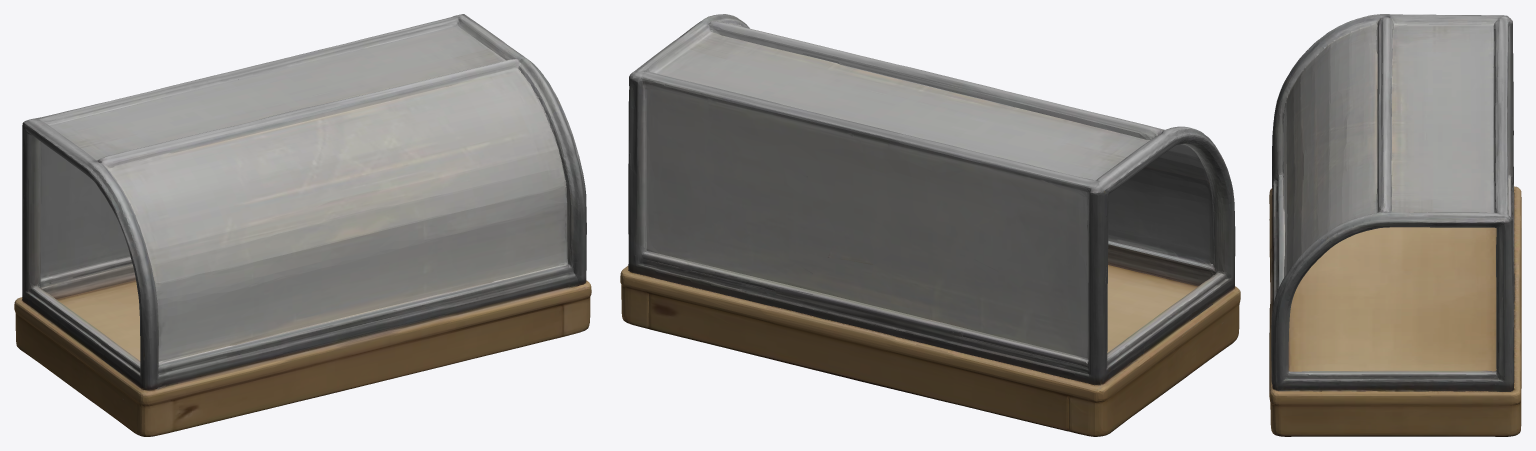
File: item_pastry_display.glb
3 renders of one model, left to right at view 1: azimuth 30°, elevation 25°; view 2: azimuth 150°, elevation 25°; view 3: azimuth 270°, elevation 25°, orthographic. The views are drawn at different scales.
Visible parts, largest first — view 1: geometry_0; view 2: geometry_0; view 3: geometry_0.
Part boxes in pixels (<box>): geometry_0: <box>14,14,591,436</box>; geometry_0: <box>620,14,1240,436</box>; geometry_0: <box>1269,14,1521,436</box>.
Bounding box in the file's own units: 1 × 0.4946 × 0.5092.
Materials: 1 (1 with a texture image).
